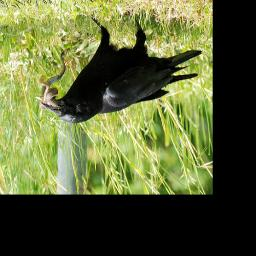Crow: (40, 16, 200, 124)
